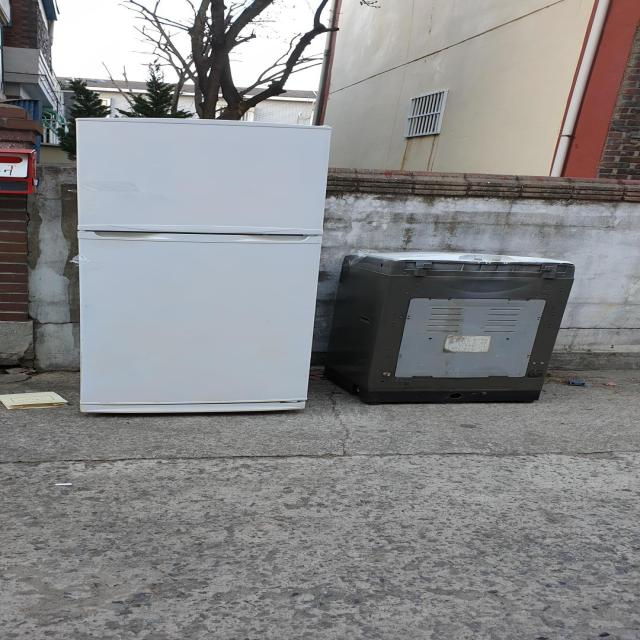refrigerator: (66, 113, 342, 420)
